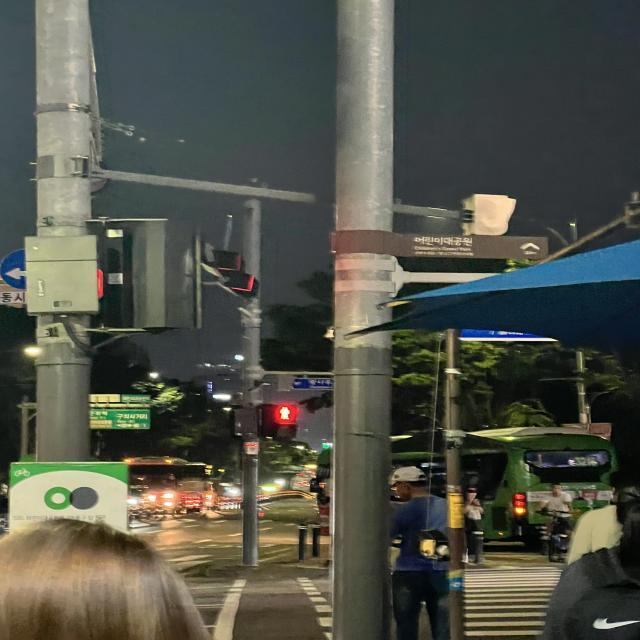crosswalk: (293, 549, 640, 640)
red-crossing: (260, 398, 308, 456)
